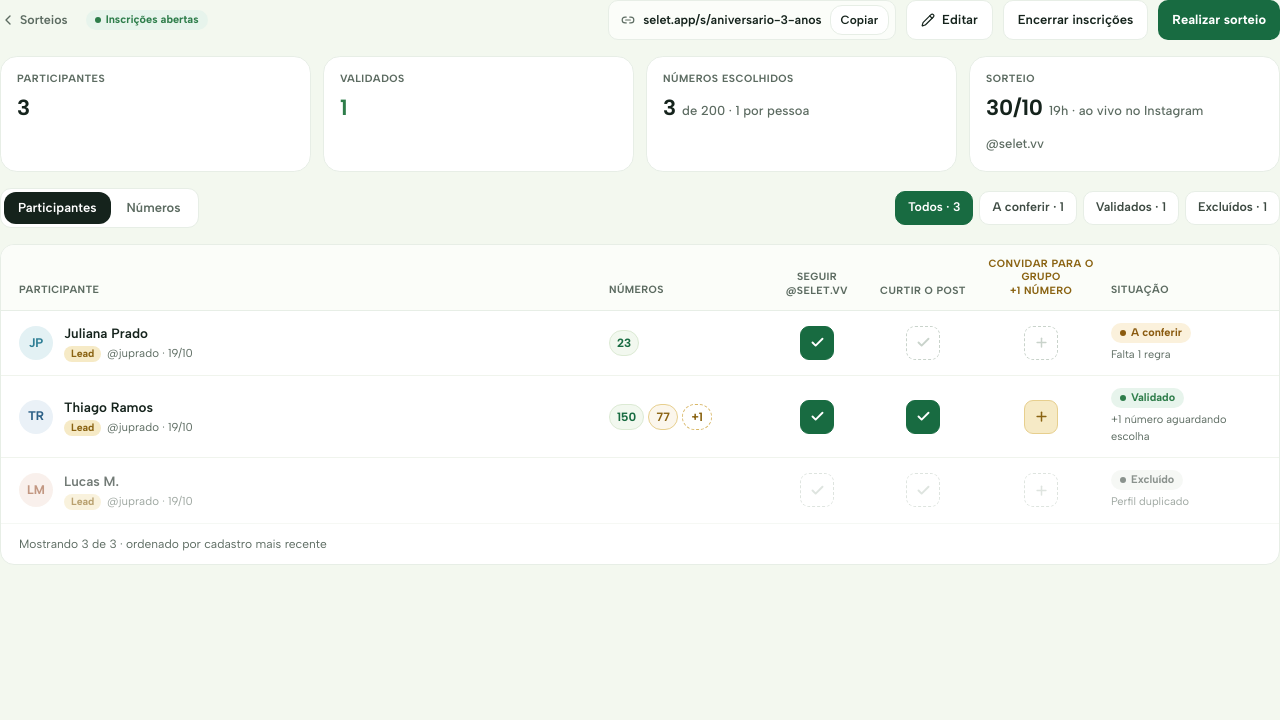
Test: RaffleDetailClient › opens the participant ficha with the exception buttons and who released what
Click the button "Thiago Ramos". click: (108, 407)
box: [64,397,153,417]
(page scrolled)
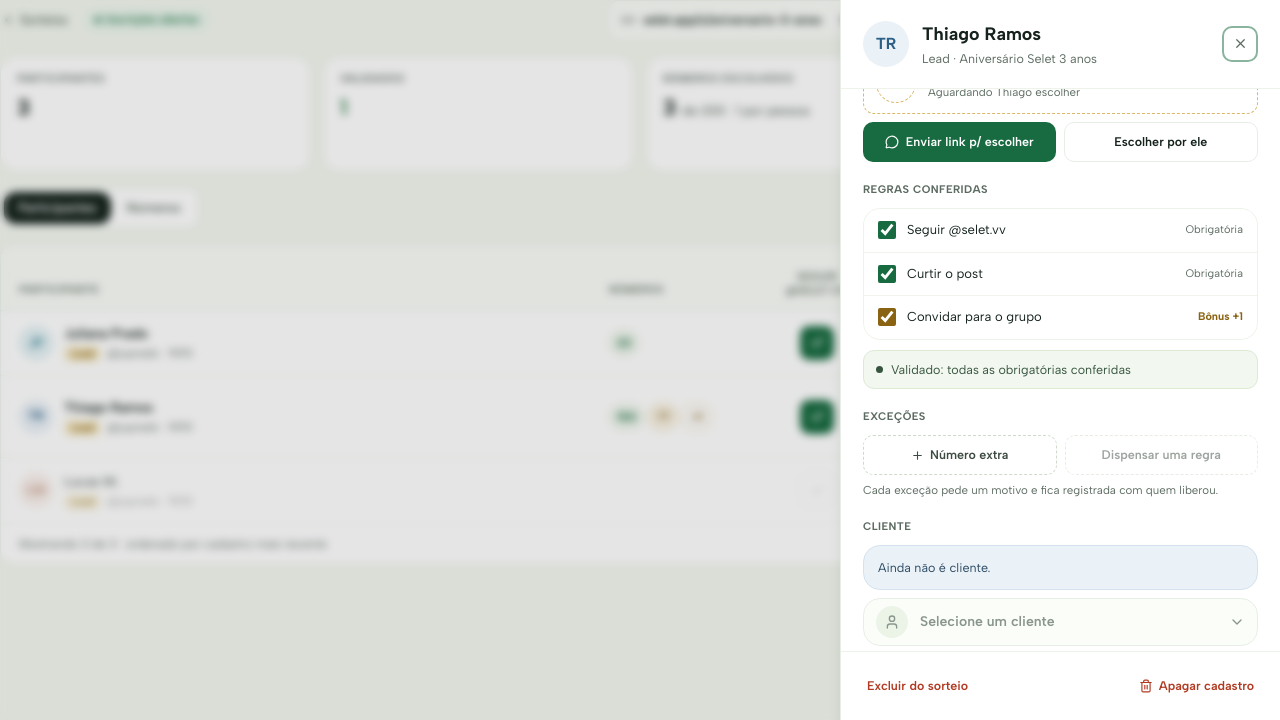
Now the button "Número extra" is shown, box [863,435,1056,475]
Now the text "Validado: todas as obrigatórias conferidas" is shown, box [863,350,1258,389]
